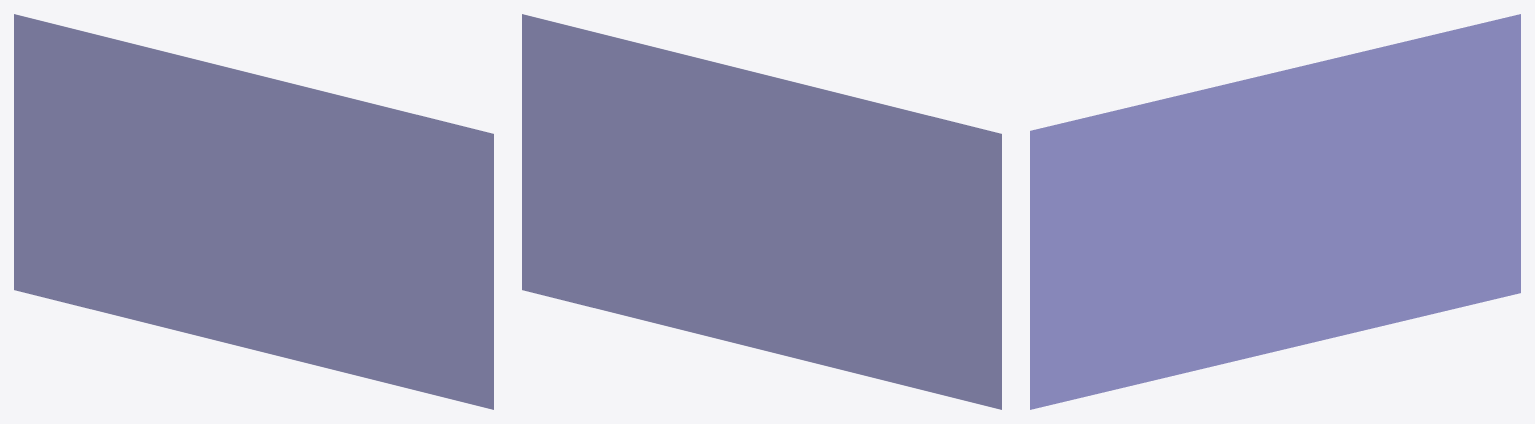
Rendered from Screen.fbx.
The picture shows the model from 3 angles, left to right: view 1: azimuth 30°, elevation 25°; view 2: azimuth 210°, elevation 25°; view 3: azimuth 270°, elevation 25°; orthographic projection.
Parts seen in each view (by area): view 1: showroom_mainscreen; view 2: showroom_mainscreen; view 3: showroom_mainscreen.
Boxes of the visible parts, x1,y1,x2,y2 form: showroom_mainscreen: (14, 14, 493, 409); showroom_mainscreen: (522, 14, 1001, 409); showroom_mainscreen: (1030, 14, 1520, 409).
Bounding box in the file's own units: 9.81 × 10.92 × 17.42.
